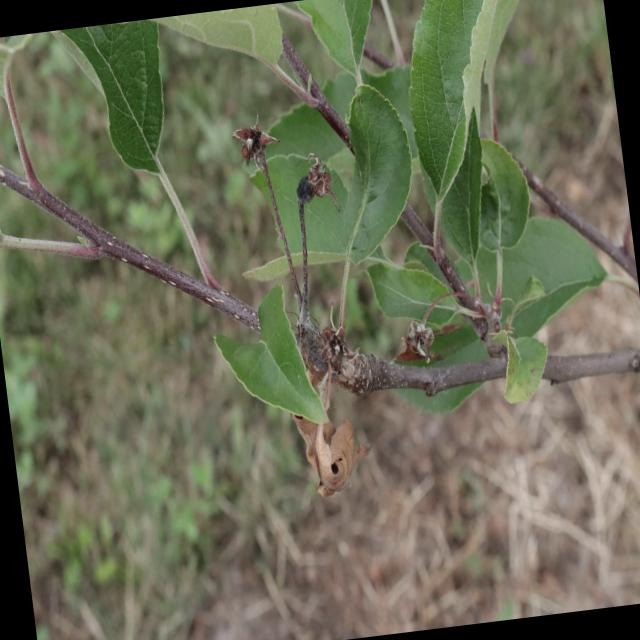-FireBlight-: (281, 366, 368, 496)
